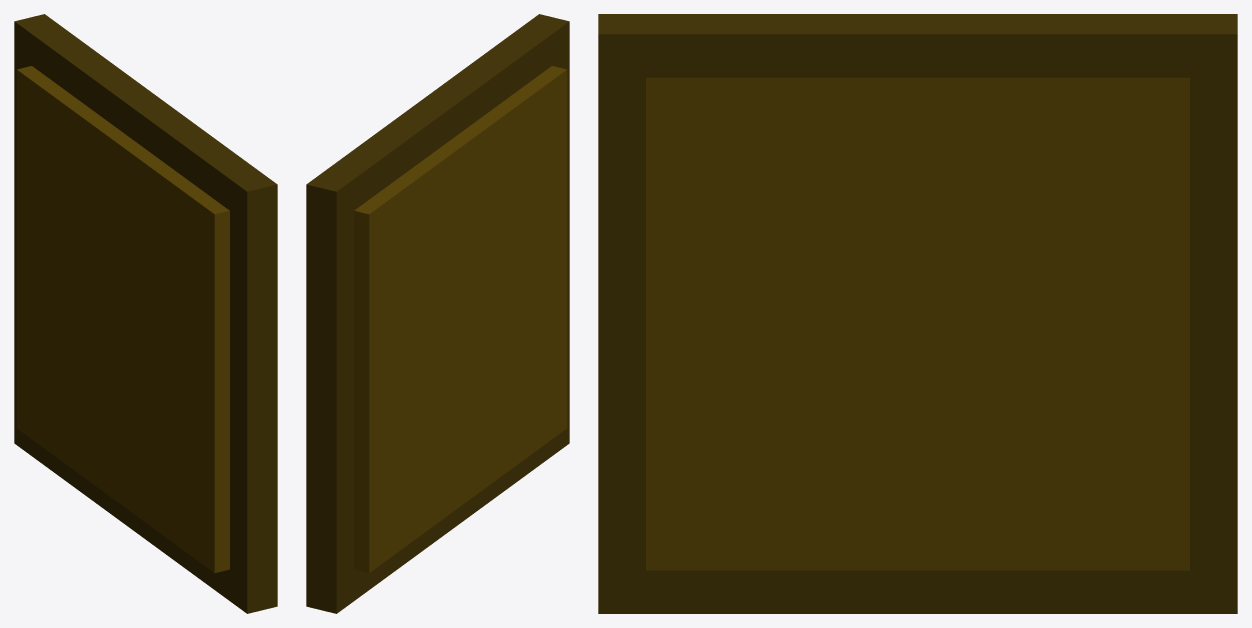
Rendered from wooden_wall.glb.
The picture shows the model from 3 angles, left to right: view 1: azimuth 30°, elevation 25°; view 2: azimuth 150°, elevation 25°; view 3: azimuth 270°, elevation 25°; orthographic projection. The views are drawn at different scales.
Visible parts, largest first — view 1: Cube; view 2: Cube; view 3: Cube.
Boxes of the visible parts, bbox=[...] form: Cube: bbox=[14, 14, 277, 613]; Cube: bbox=[306, 14, 569, 613]; Cube: bbox=[598, 14, 1237, 613].
Bounding box in the file's own units: 0.45 × 4 × 4.
1 material, 1 textured.
